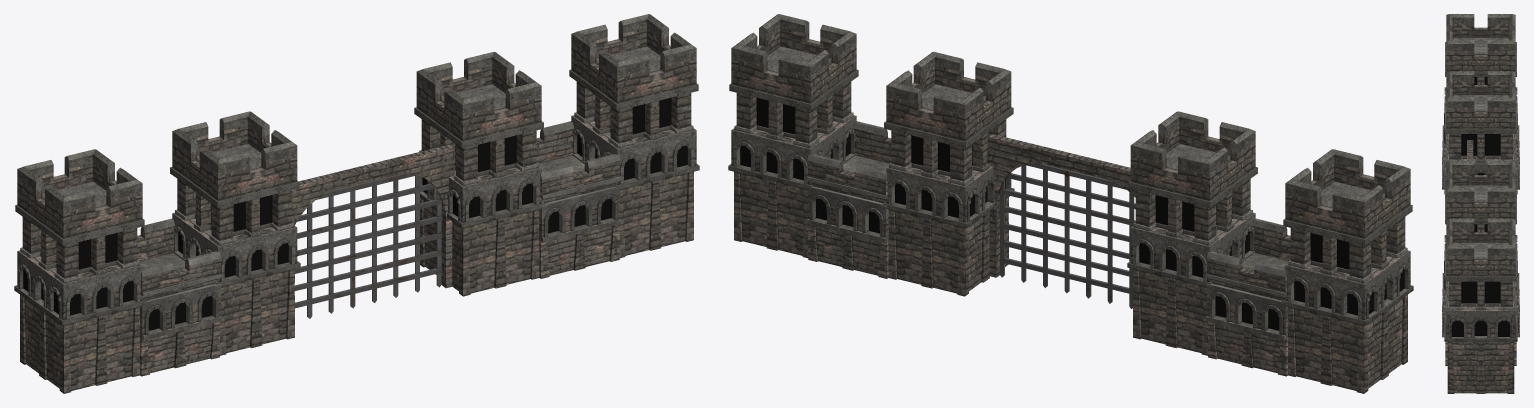
The model's file is Muralla_completa.fbx.
The picture shows the model from 3 angles, left to right: view 1: azimuth 30°, elevation 25°; view 2: azimuth 150°, elevation 25°; view 3: azimuth 270°, elevation 25°; orthographic projection. The views are drawn at different scales.
Visible parts, largest first — view 1: Muralla_completa; view 2: Muralla_completa; view 3: Muralla_completa.
Boxes of the visible parts, x1,y1,x2,y2 form: Muralla_completa: [14, 14, 699, 393]; Muralla_completa: [728, 14, 1413, 393]; Muralla_completa: [1442, 14, 1519, 393].
Bounding box in the file's own units: 47164 × 13825 × 6574.
